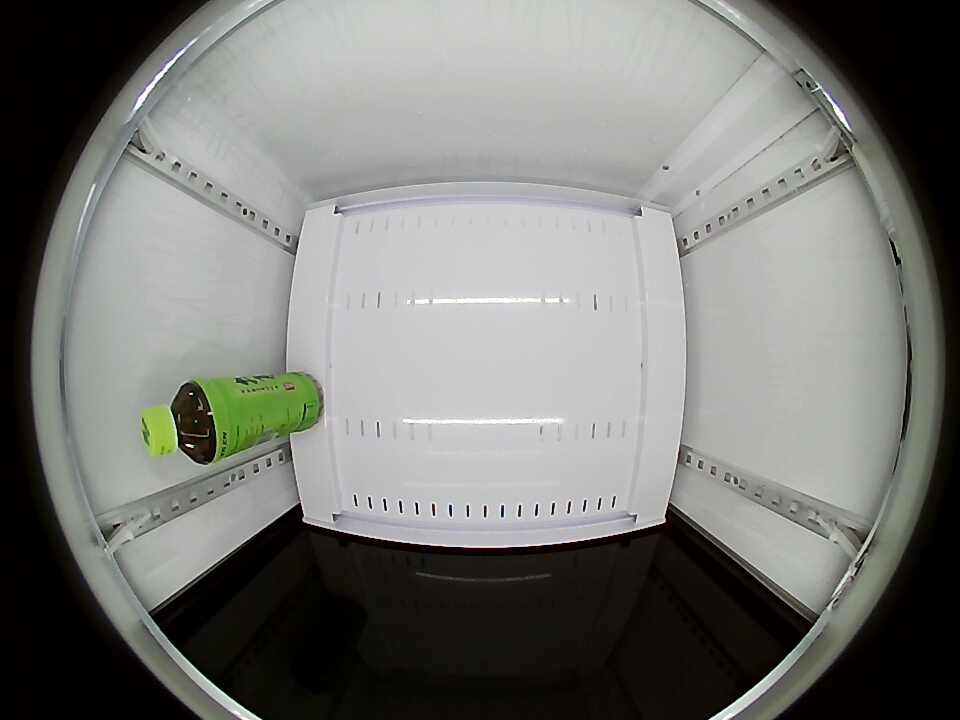yitengyuan: (140, 379, 228, 465)
